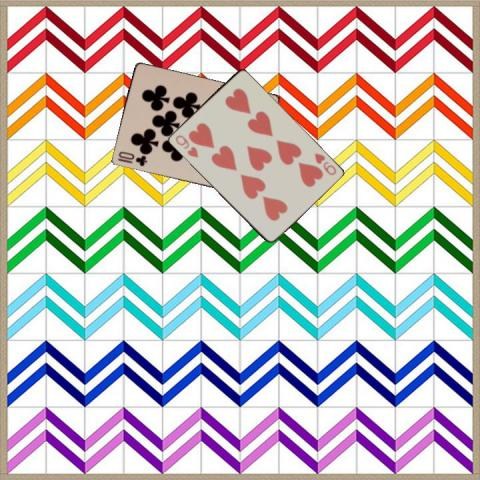10c: (114, 149, 148, 168)
9h: (172, 132, 199, 159), (311, 150, 337, 177)
